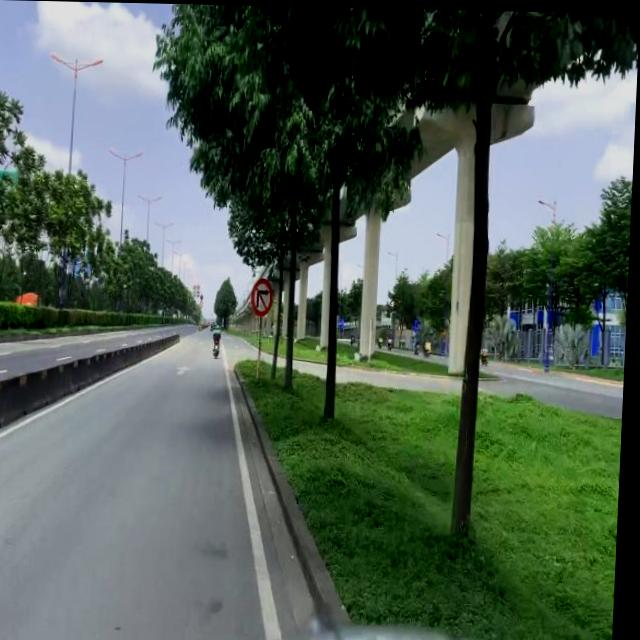Cam re phai: (253, 276, 277, 316)
